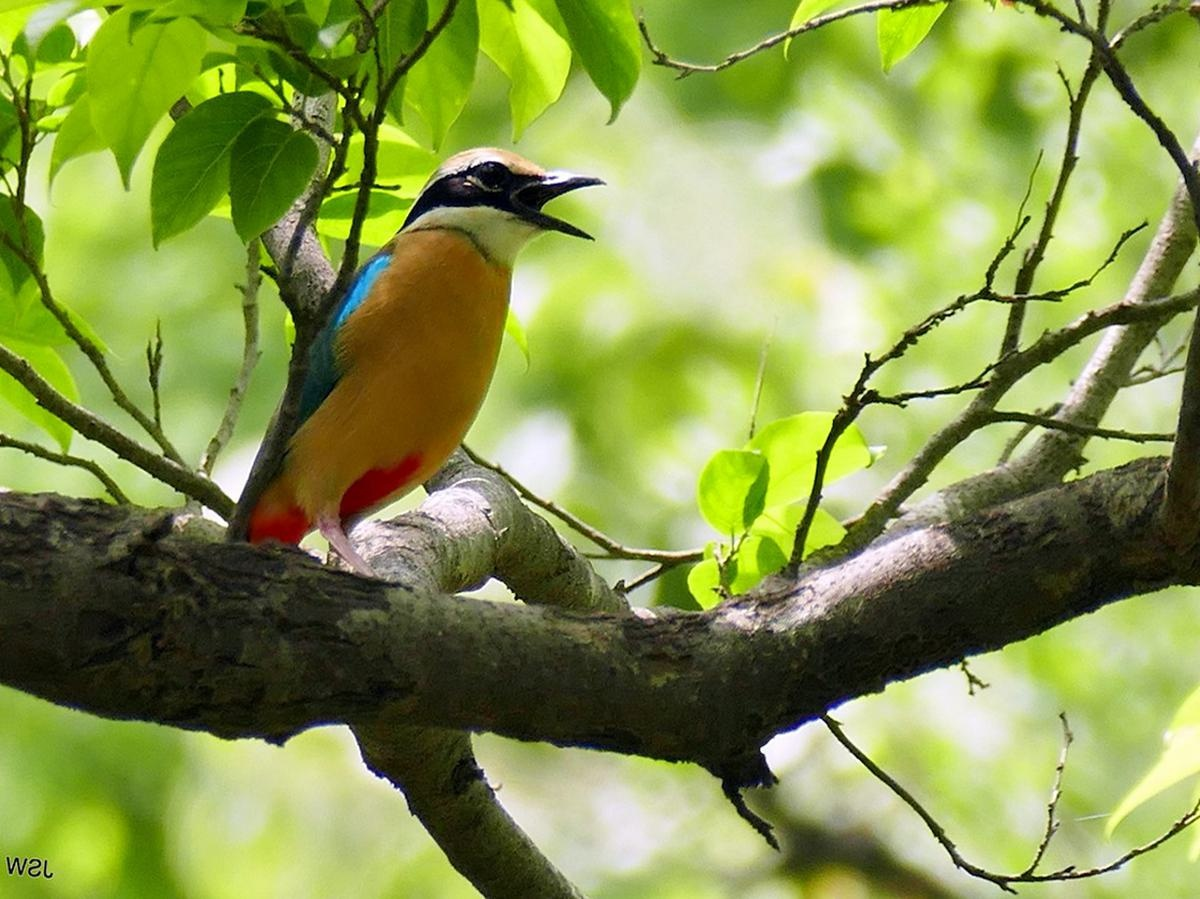pitta: (210, 85, 614, 627)
